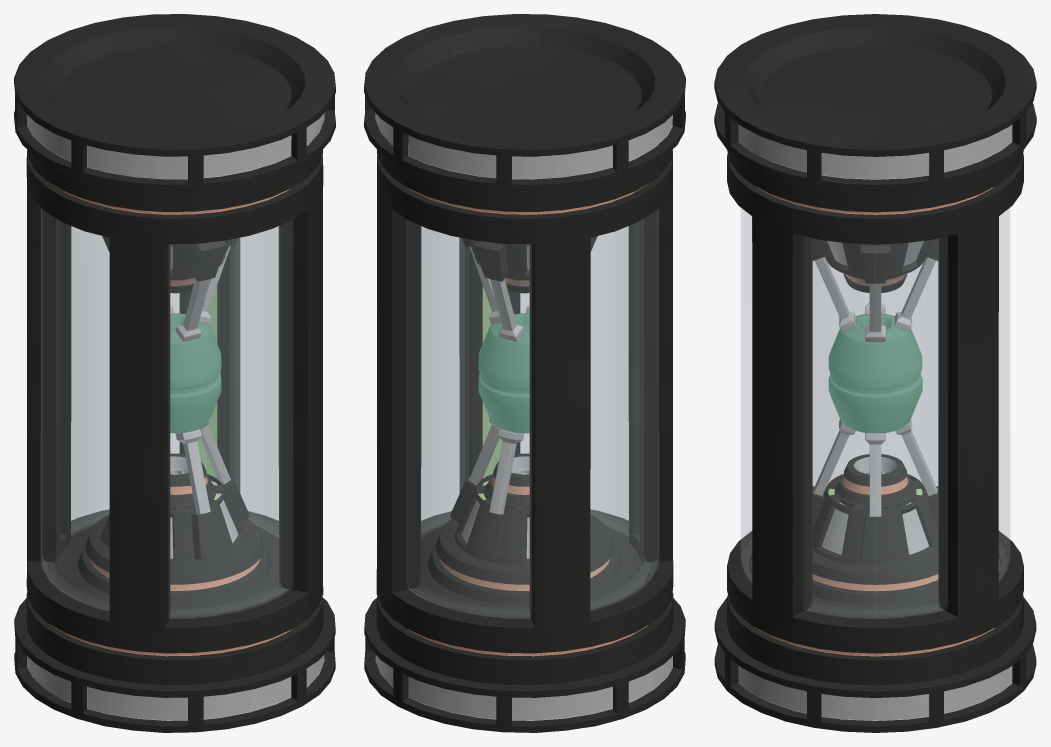
The model's file is gauge_battery_001_meshopt.glb.
3 views of the same model, side by side, from view 1: azimuth 30°, elevation 25°; view 2: azimuth 150°, elevation 25°; view 3: azimuth 270°, elevation 25° (orthographic).
Parts seen in each view (by area): view 1: cuerpo, cristal, nucleo, anillos; view 2: cuerpo, cristal, nucleo, anillos; view 3: cuerpo, cristal, nucleo.
Boxes of the visible parts, bbox=[...] form: cuerpo: bbox=[14, 14, 335, 732]; cristal: bbox=[41, 208, 292, 618]; nucleo: bbox=[170, 313, 221, 433]; anillos: bbox=[170, 285, 221, 499]; cuerpo: bbox=[364, 14, 685, 732]; cristal: bbox=[407, 208, 658, 618]; nucleo: bbox=[478, 313, 529, 433]; anillos: bbox=[478, 285, 529, 499]; cuerpo: bbox=[714, 14, 1036, 732]; cristal: bbox=[741, 208, 1009, 618]; nucleo: bbox=[828, 314, 922, 433].
Bounding box in the file's own units: 0.1001 × 0.2 × 0.1001.
6 materials, 2 textured.
